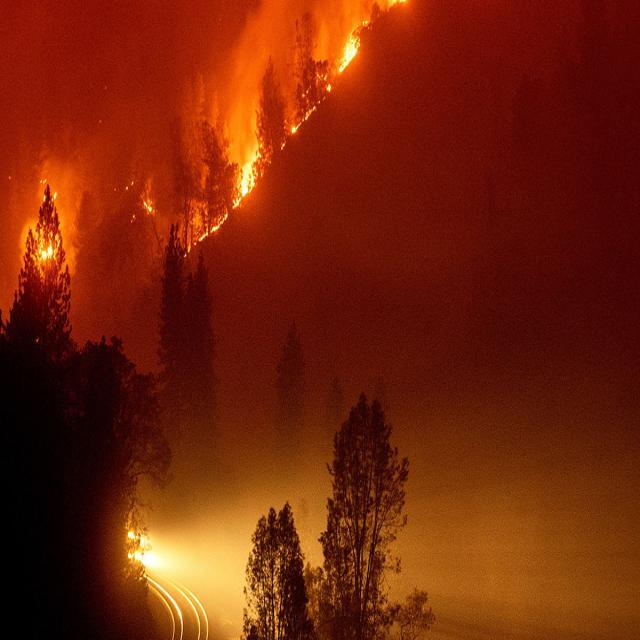Smoke: (199, 0, 314, 164)
